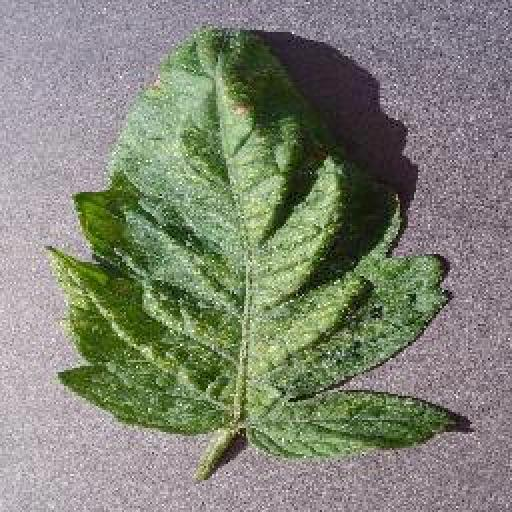disease_tomato: (52, 30, 472, 460)
